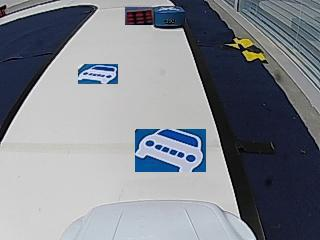prop: (153, 6, 186, 29)
